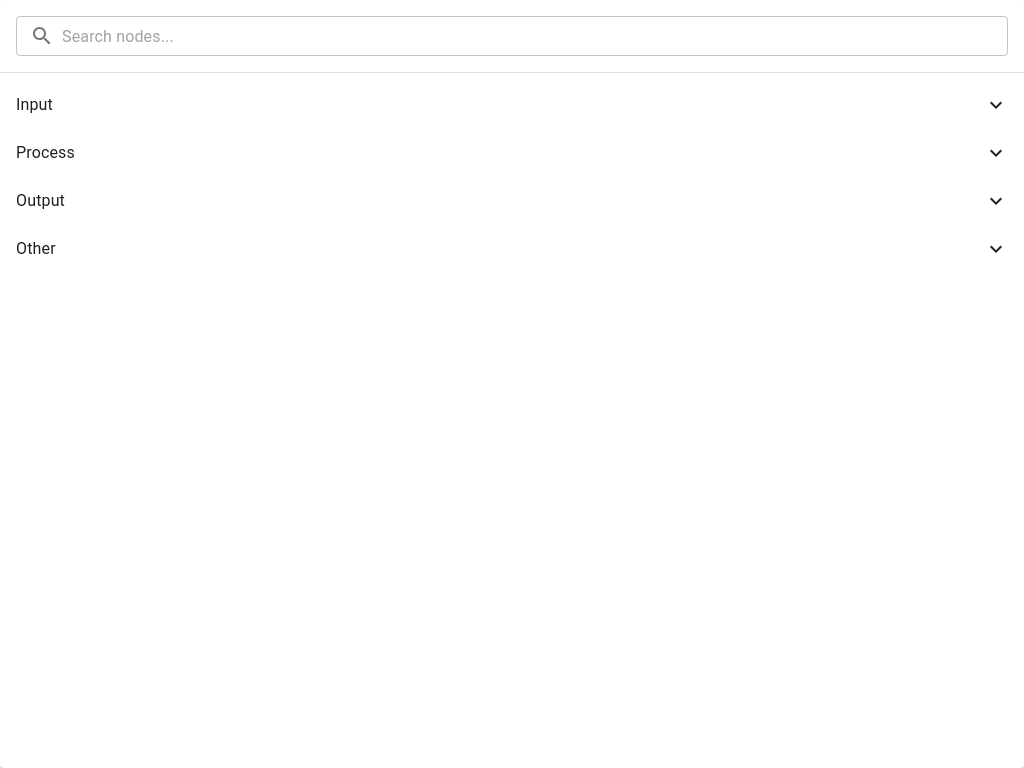
Test: Sidebar Component › displays node descriptions on hover
Click the button "Input" at (34, 104), box 16,93 -> 1008,117
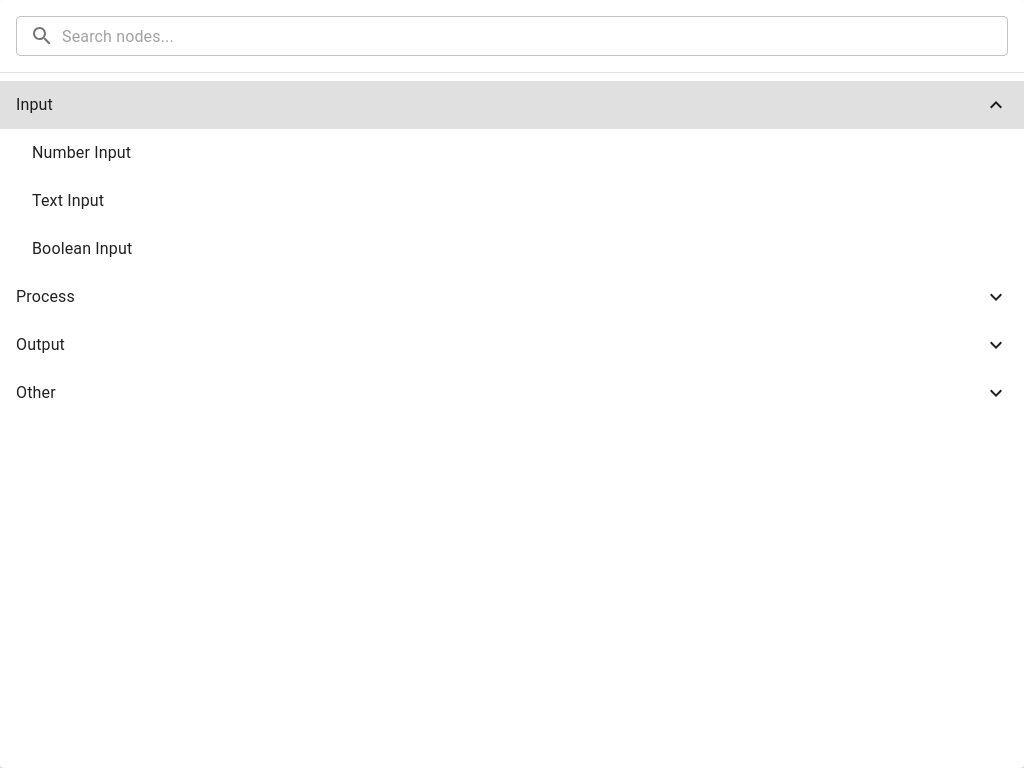
Hover over the button "Number Input" at (82, 152), box 32,143 -> 131,162
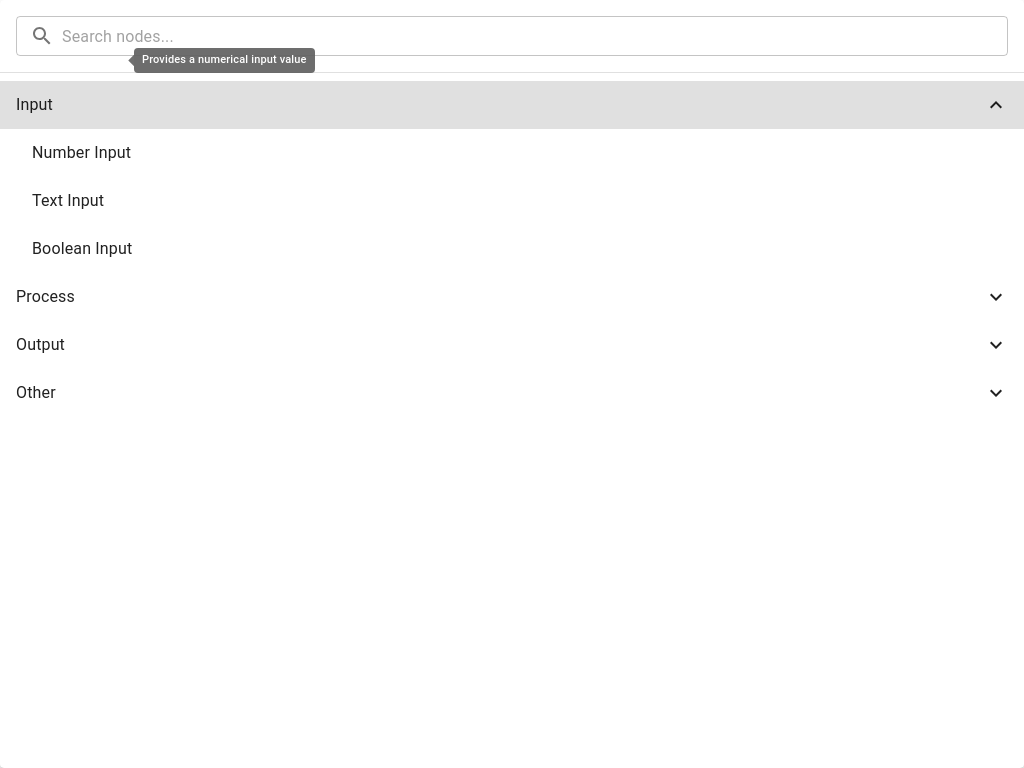
Expected: the text "Provides a numerical input value" is shown, 134,48 -> 315,72
